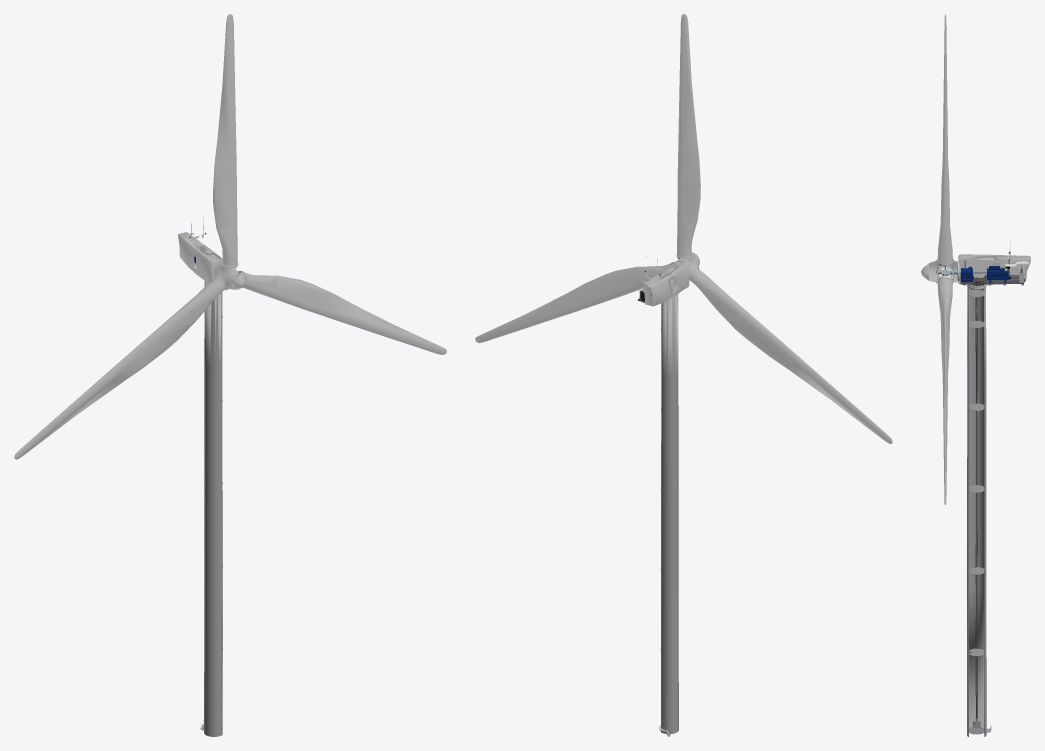
File: windTurbineCutawayCompressed.glb
3 renders of one model, left to right at view 1: azimuth 30°, elevation 25°; view 2: azimuth 150°, elevation 25°; view 3: azimuth 270°, elevation 25°, orthographic. The views are drawn at different scales.
Parts seen in each view (by area): view 1: wind_turbine_head, mast_leg; view 2: wind_turbine_head, mast_leg; view 3: mast_leg, wind_turbine_head, tube_level, generator_support002, lower_ear009, vent_pipe, gearbox_plate002, lowr_tube_paltform.
Part boxes in pixels (x1,y1,x2,y2): wind_turbine_head: (14,14,446,459); mast_leg: (204,281,222,736); wind_turbine_head: (475,14,892,444); mast_leg: (661,294,678,733); mast_leg: (967,284,986,736); wind_turbine_head: (921,14,1030,504); tube_level: (969,284,984,718); generator_support002: (960,275,1023,286); lower_ear009: (987,266,1010,282); vent_pipe: (1004,261,1028,282); gearbox_plate002: (961,266,986,282); lowr_tube_paltform: (969,718,991,734).
Bounding box in the file's own units: 10932 × 17624 × 2431.
Materials: 11 (10 with a texture image).
